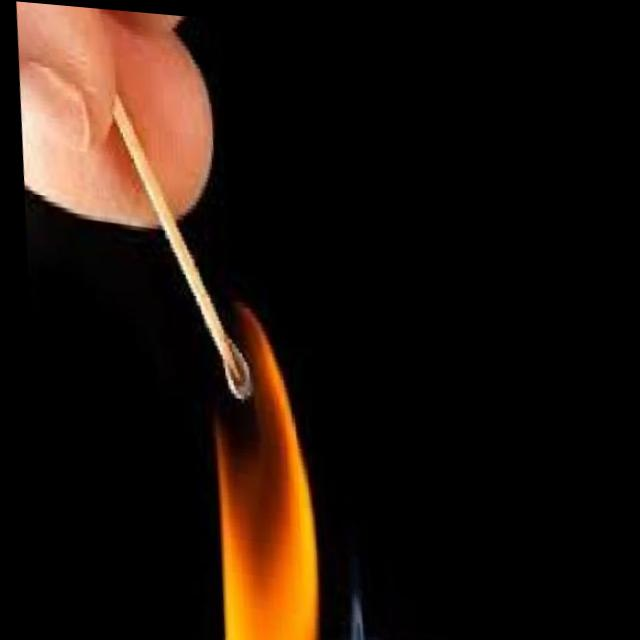Fire: (182, 301, 341, 640)
